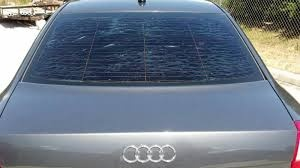Broken-glass: (23, 16, 263, 84)
